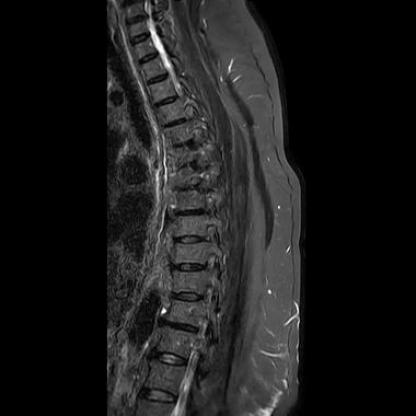Osteophytesrotation: (135, 29, 215, 416)
